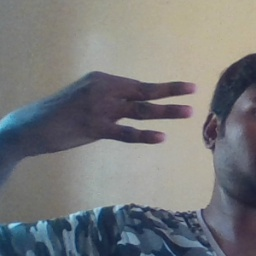K: (15, 69, 199, 152)
